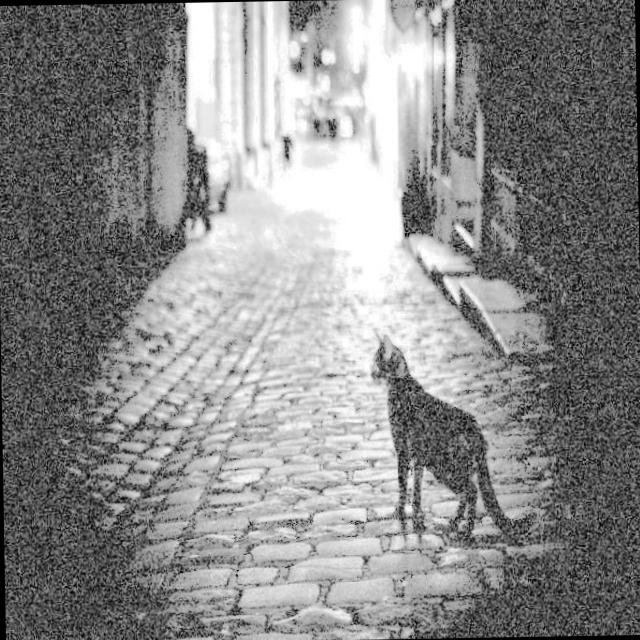Car: (170, 120, 255, 237)
Cat: (321, 310, 523, 579)
